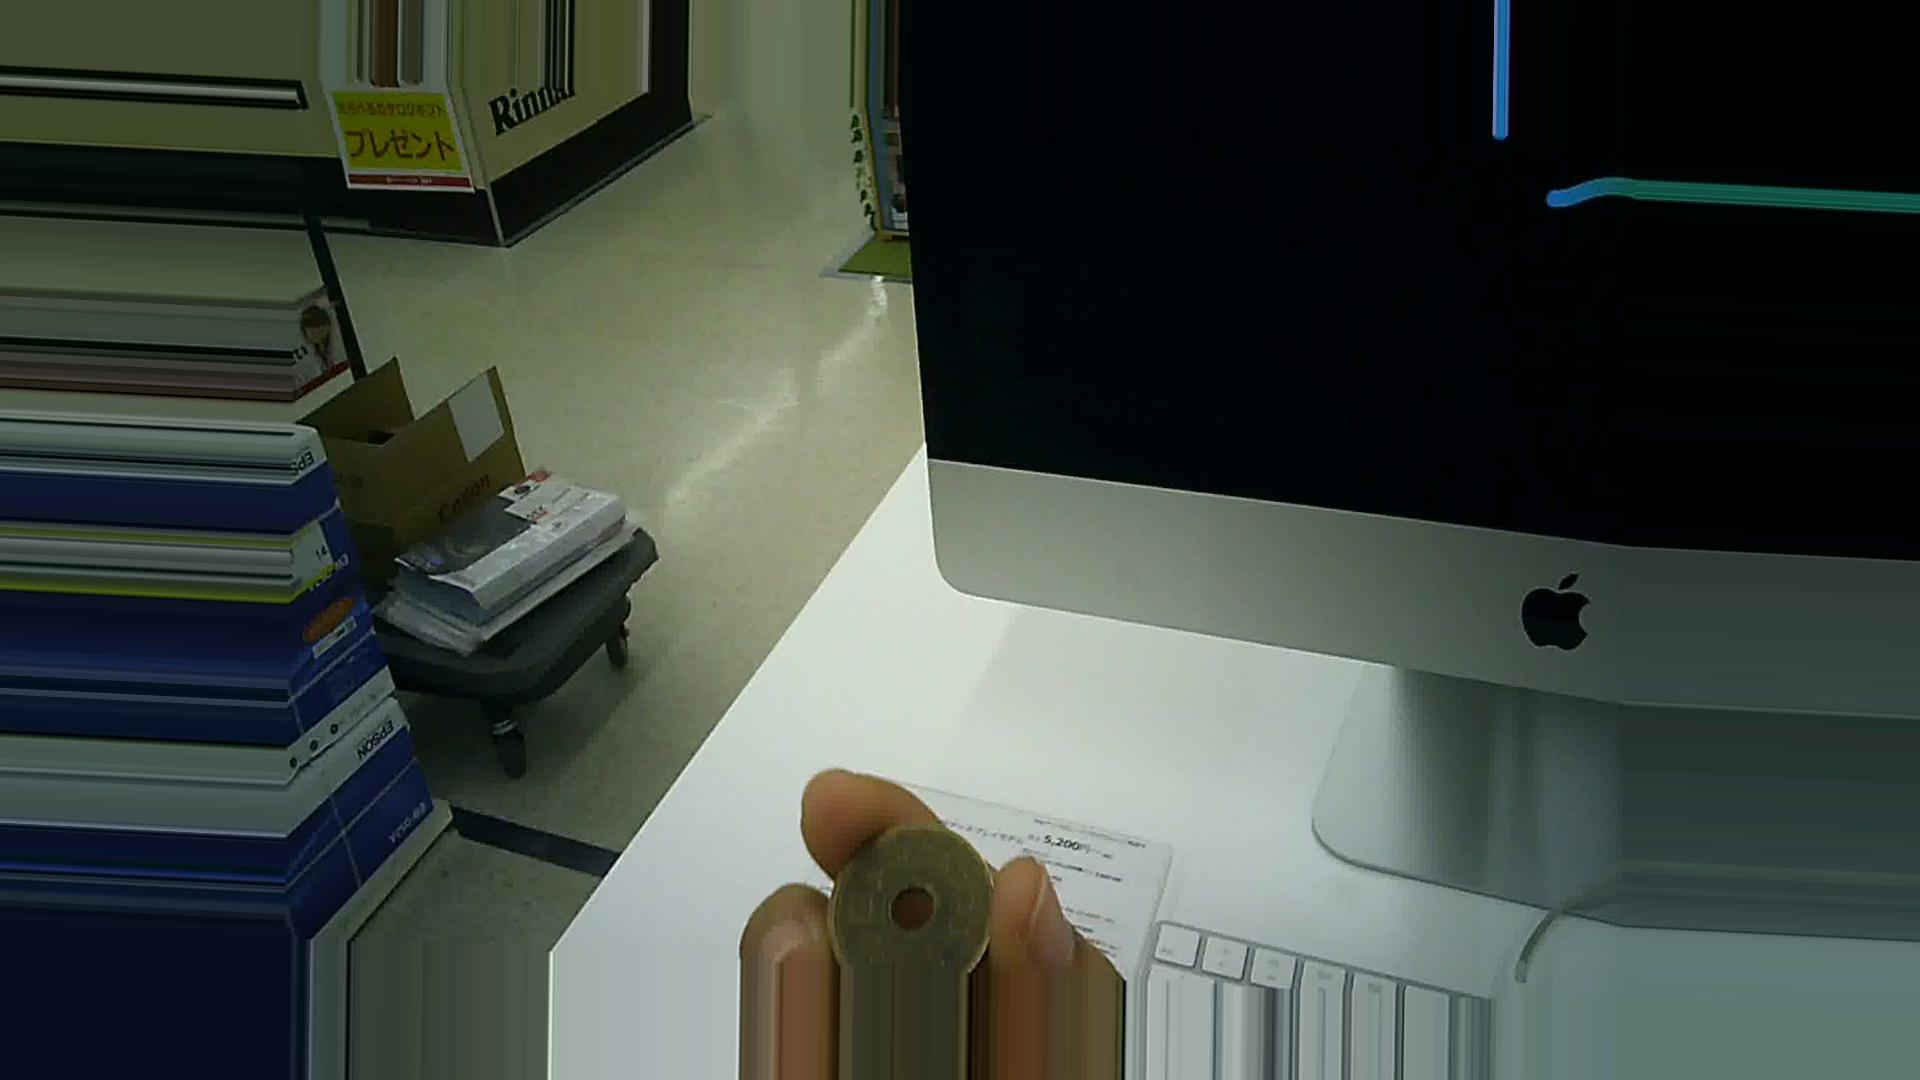5 Yen: (793, 810, 1000, 975)
